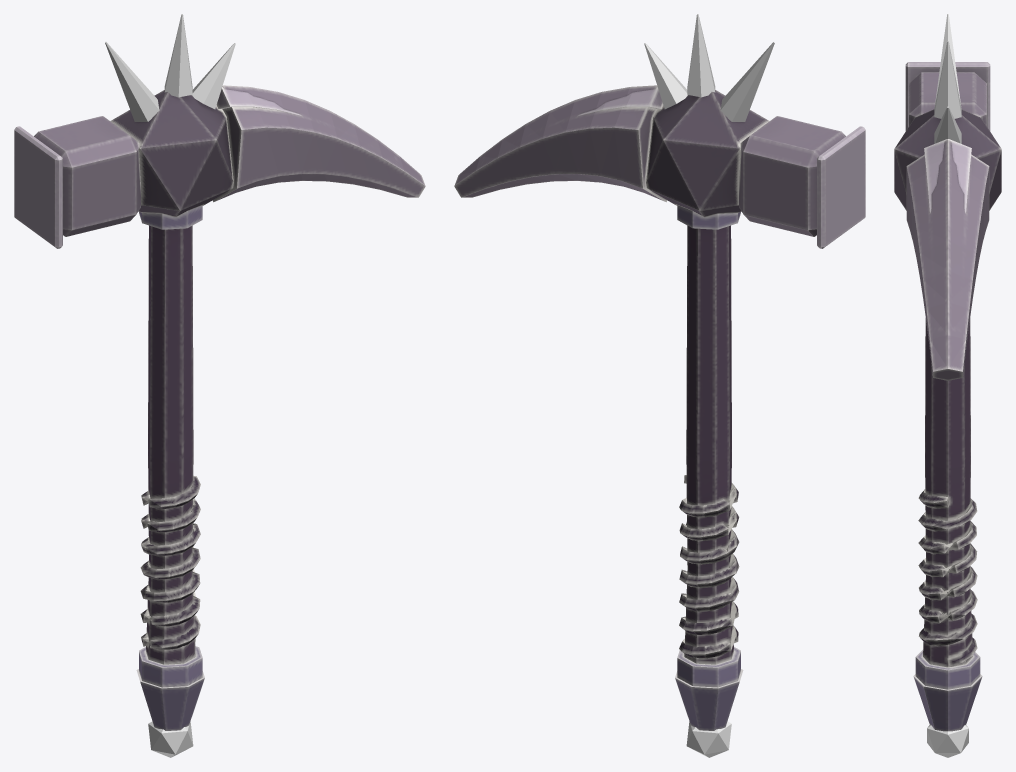
Rendered from GeodePickaxe.glb.
3 views of the same model, side by side, from view 1: azimuth 30°, elevation 25°; view 2: azimuth 150°, elevation 25°; view 3: azimuth 270°, elevation 25° (orthographic). The views are drawn at different scales.
Parts seen in each view (by area): view 1: Body__Tex, Head__Crystal, Head__Gem; view 2: Body__Tex, Head__Crystal, Head__Gem; view 3: Body__Tex, Head__Crystal, Head__Gem.
Part boxes in pixels (x1=…): Body__Tex: x1=14, y1=85, x2=425, y2=730; Head__Crystal: x1=105, y1=14, x2=235, y2=121; Head__Gem: x1=148, y1=721, x2=193, y2=757; Body__Tex: x1=454, y1=85, x2=865, y2=730; Head__Crystal: x1=644, y1=14, x2=774, y2=121; Head__Gem: x1=686, y1=721, x2=731, y2=757; Body__Tex: x1=894, y1=62, x2=1001, y2=731; Head__Crystal: x1=934, y1=14, x2=961, y2=143; Head__Gem: x1=927, y1=725, x2=968, y2=757.
Size of the model in its own units: 2.46 by 4.5 by 0.6074.
1 material, 1 textured.
